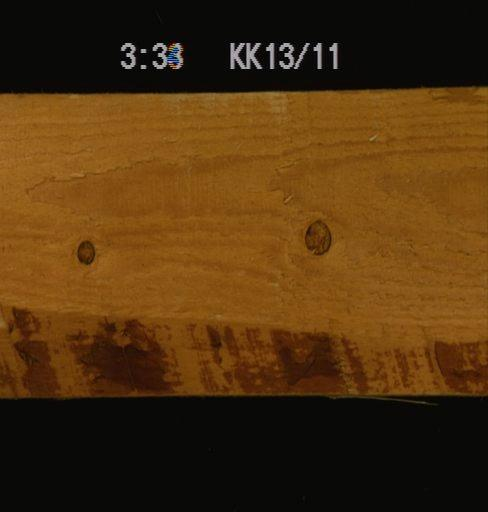dry_knot: (303, 218, 332, 256), (75, 237, 95, 264)
wave: (0, 288, 487, 396), (429, 88, 487, 107)
